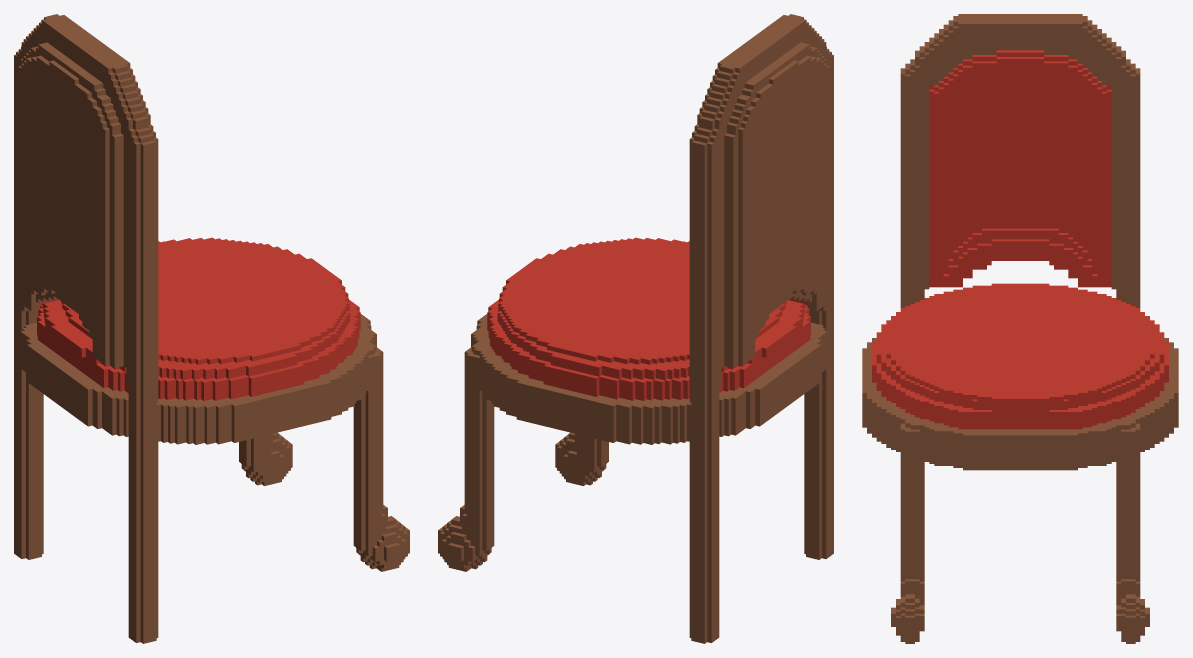
The model's file is Chaise bureau.obj.
3 views of the same model, side by side, from view 1: azimuth 30°, elevation 25°; view 2: azimuth 150°, elevation 25°; view 3: azimuth 270°, elevation 25° (orthographic). The views are drawn at different scales.
Size of the model in its own units: 6.6 by 12 by 6.6.
1 material, 1 textured.
